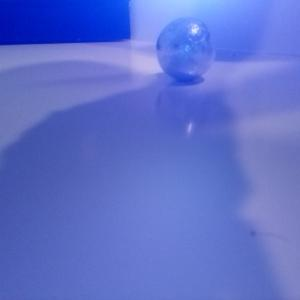alive_ball: (156, 16, 215, 82)
